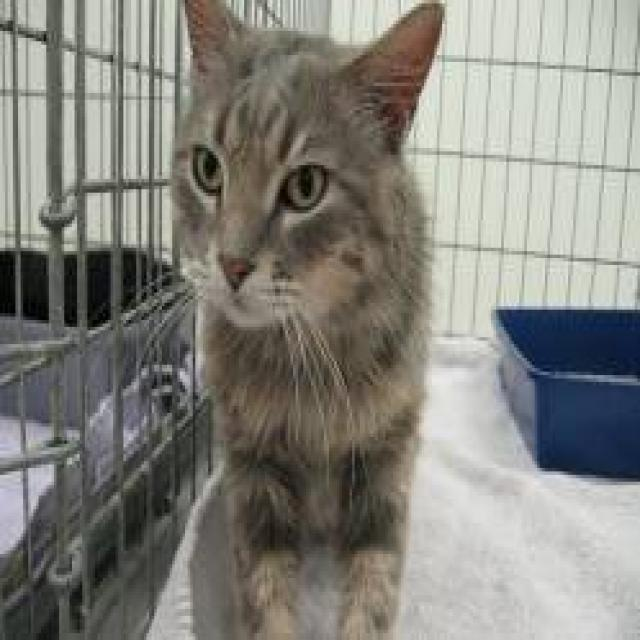cat: (162, 0, 466, 640)
